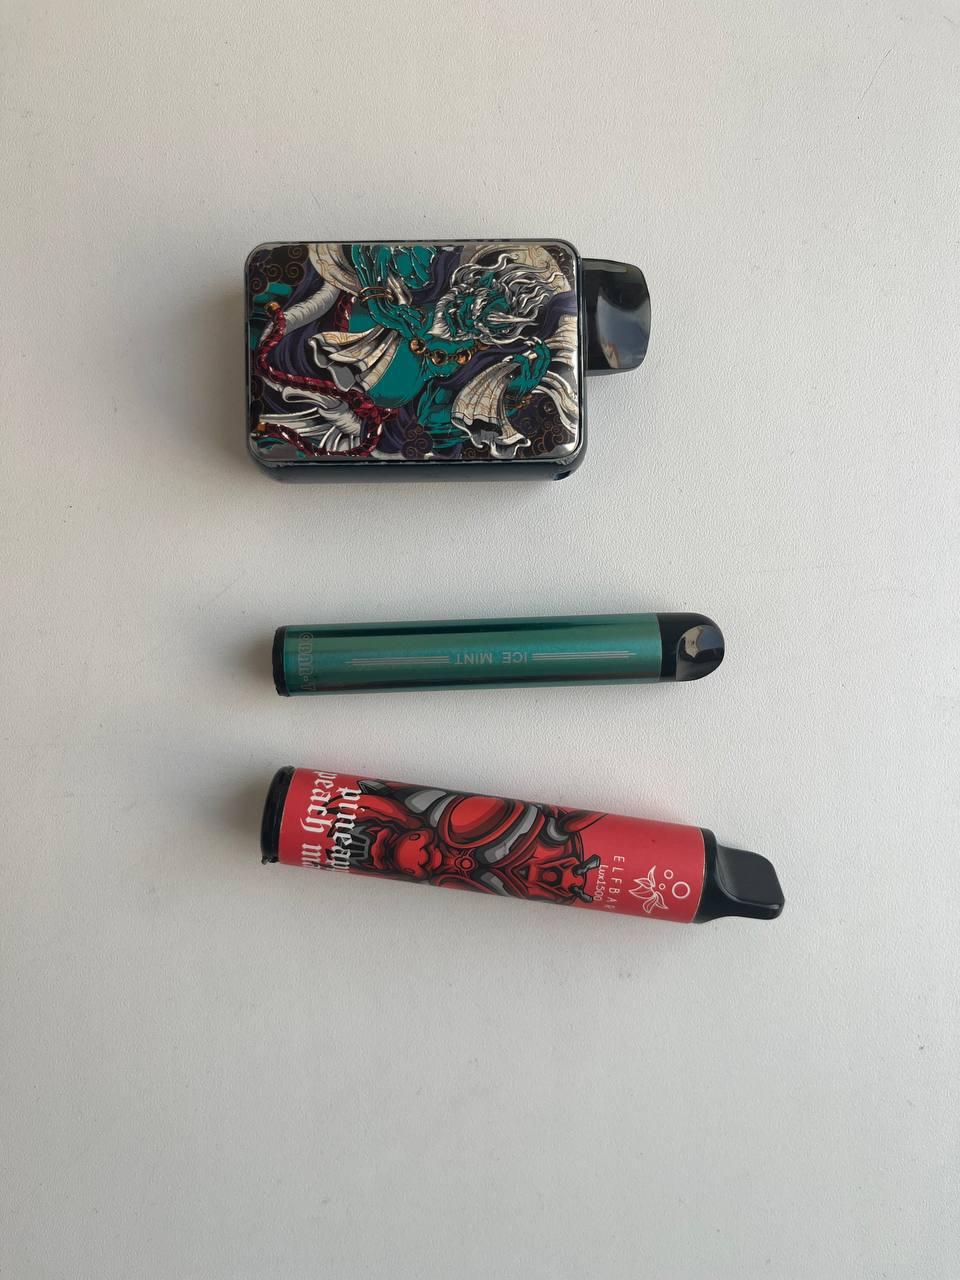Vape: (245, 240, 650, 481), (261, 768, 783, 922), (273, 613, 724, 696)
